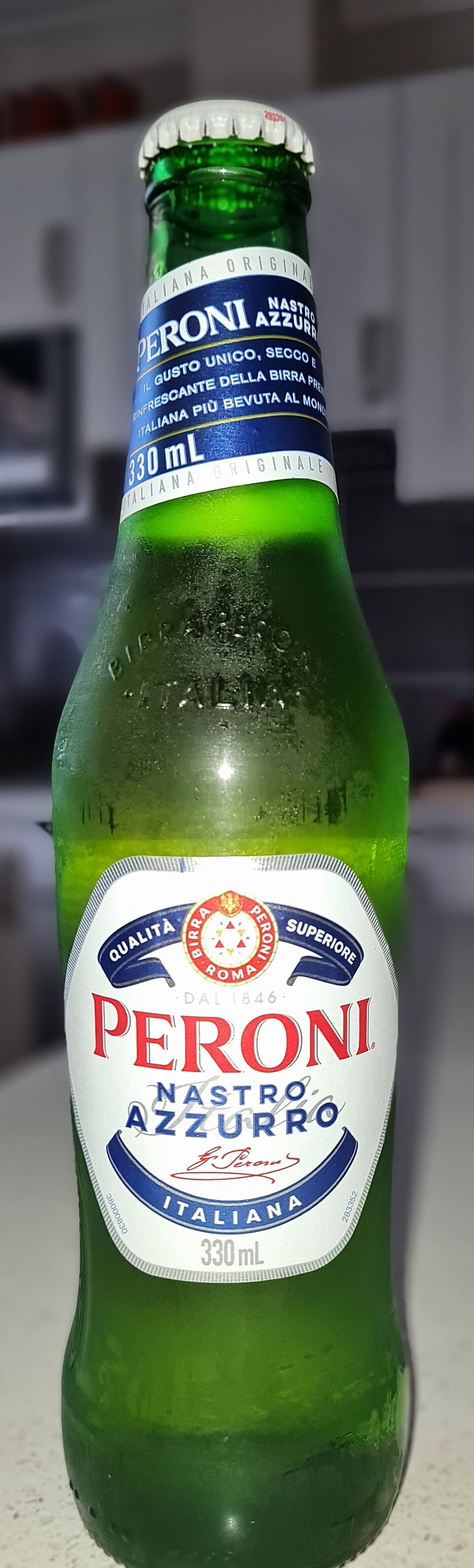beer-bottle: (27, 81, 436, 1568)
